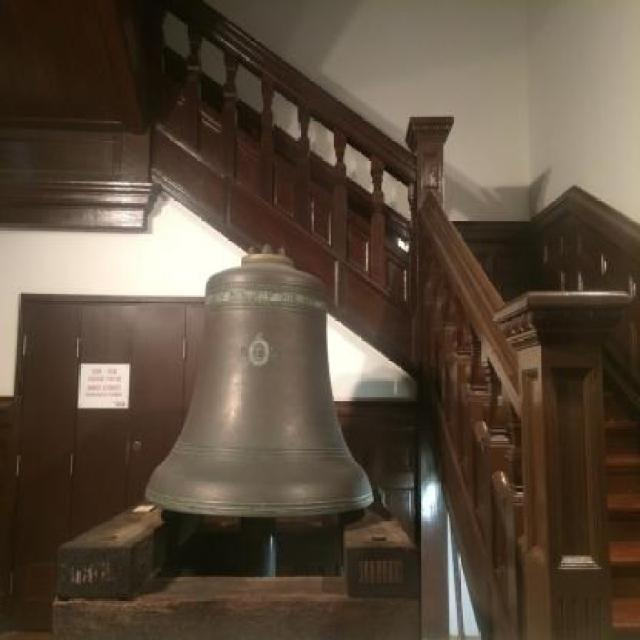stair: (146, 0, 638, 638)
